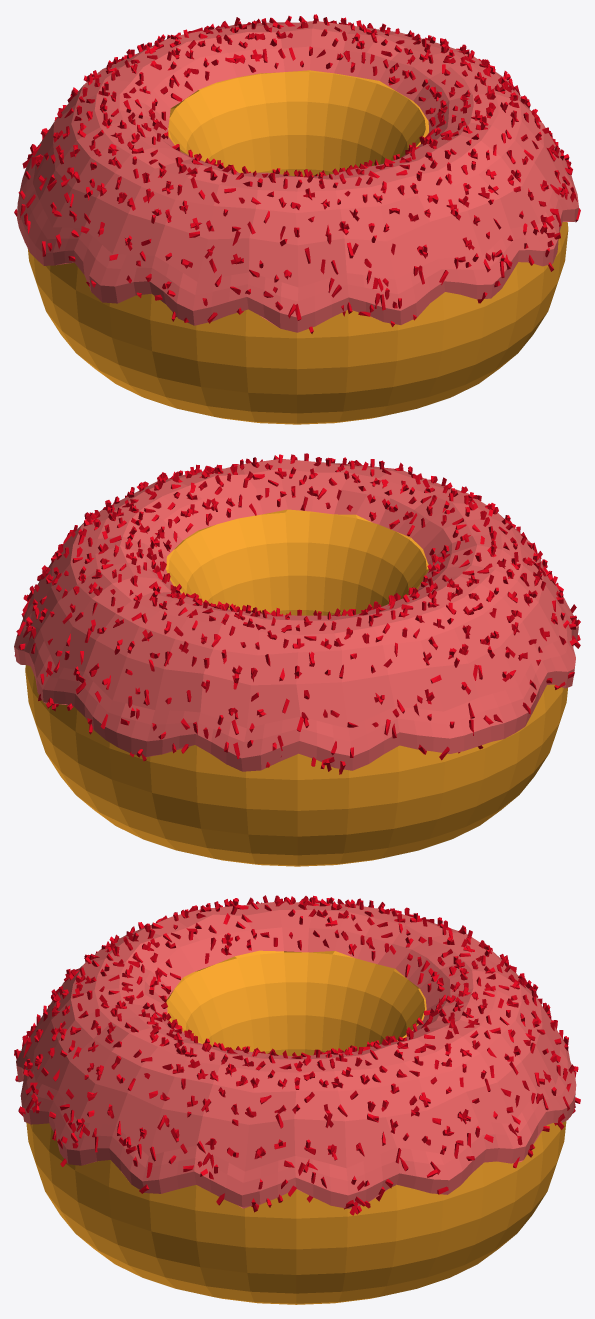
Rendered from donutPortalRed.glb.
3 views of the same model, one above another, from view 1: azimuth 30°, elevation 25°; view 2: azimuth 150°, elevation 25°; view 3: azimuth 270°, elevation 25° (orthographic).
Visible parts, largest first — view 1: donut.001; view 2: donut.001; view 3: donut.001.
Part boxes in pixels (<box>): donut.001: <box>14,14,580,424</box>; donut.001: <box>14,453,580,866</box>; donut.001: <box>14,895,580,1304</box>.
Size of the model in its own units: 0.991 by 0.4806 by 0.9999.
